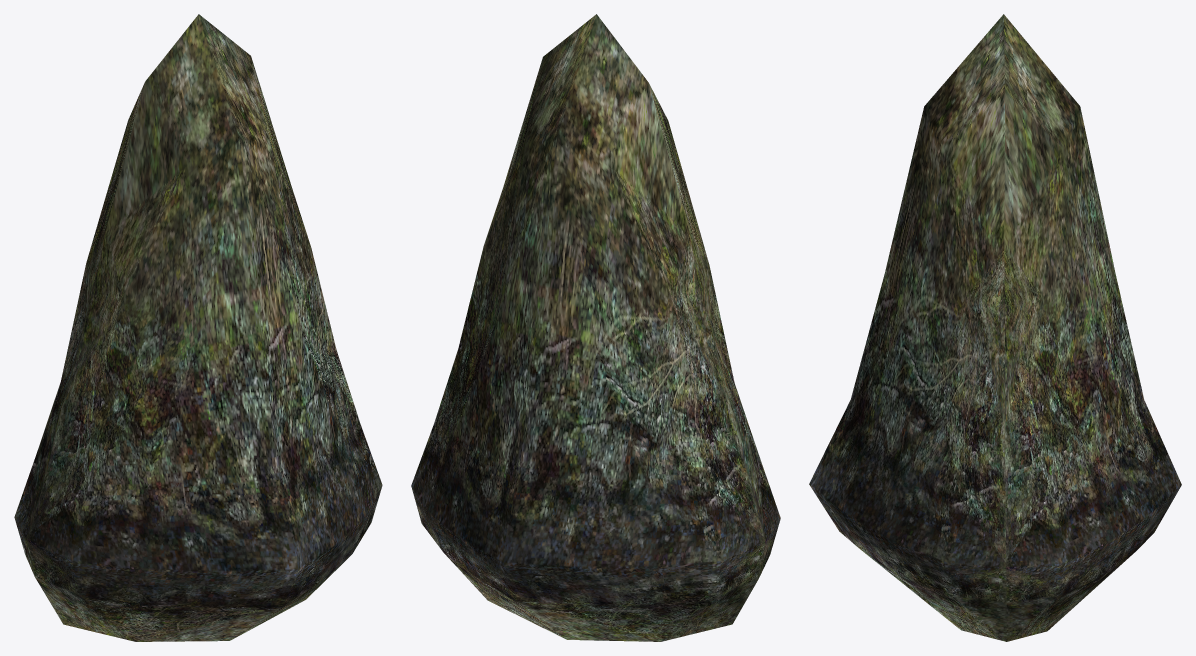
The model's file is thm_all_cave_stalagmite_damprock_b1_l0.fbx.
3 views of the same model, side by side, from view 1: azimuth 30°, elevation 25°; view 2: azimuth 150°, elevation 25°; view 3: azimuth 270°, elevation 25° (orthographic). The views are drawn at different scales.
Visible parts, largest first — view 1: mesh_node; view 2: mesh_node; view 3: mesh_node.
Boxes of the visible parts, x1,y1,x2,y2 form: mesh_node: (14,14,382,641); mesh_node: (411,14,780,641); mesh_node: (809,14,1181,641).
Bounding box in the file's own units: 2.28 × 3.95 × 2.23.
